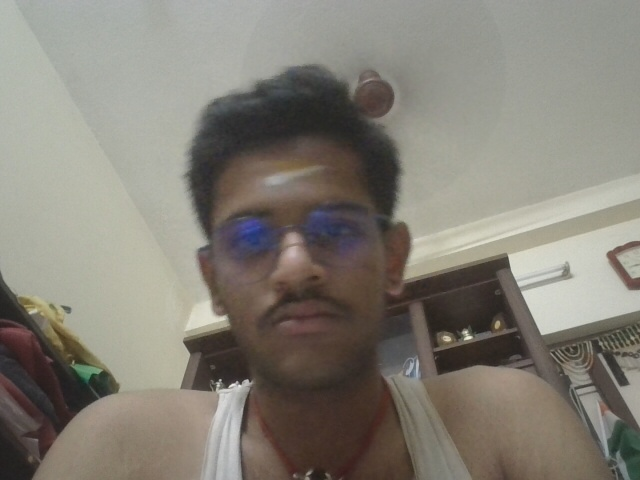real: (184, 144, 409, 369)
